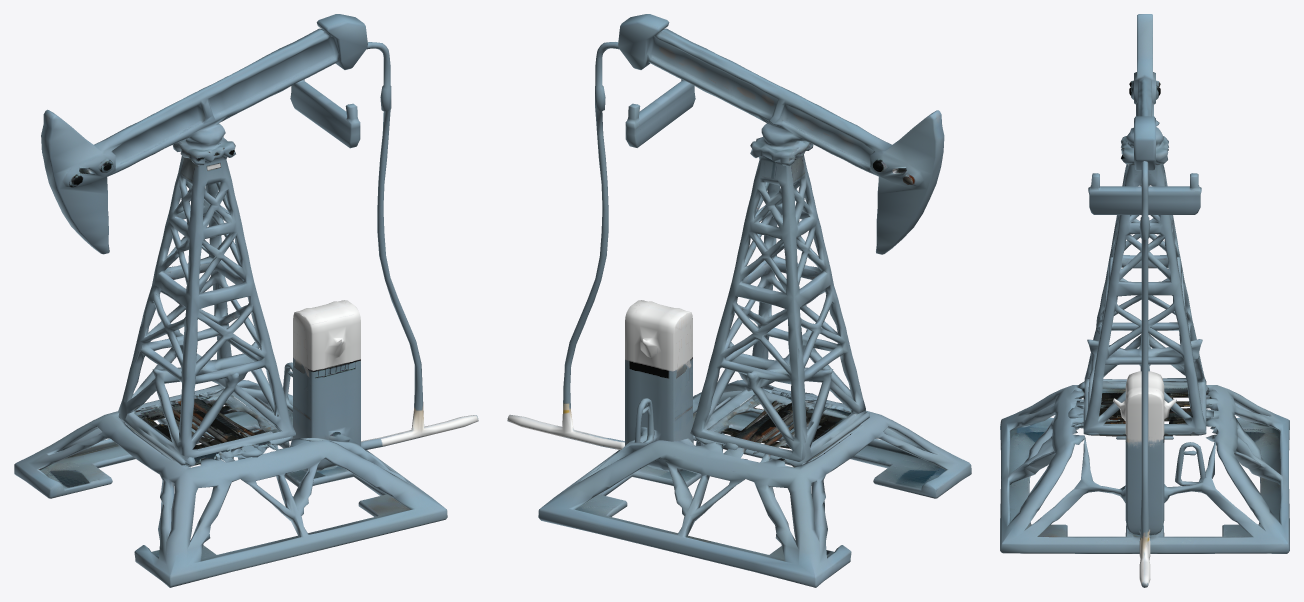
The model's file is pumpjack.glb.
3 views of the same model, side by side, from view 1: azimuth 30°, elevation 25°; view 2: azimuth 150°, elevation 25°; view 3: azimuth 270°, elevation 25° (orthographic). The views are drawn at different scales.
Bounding box in the file's own units: 1.9 × 1.91 × 1.19.
1 material, 1 textured.
